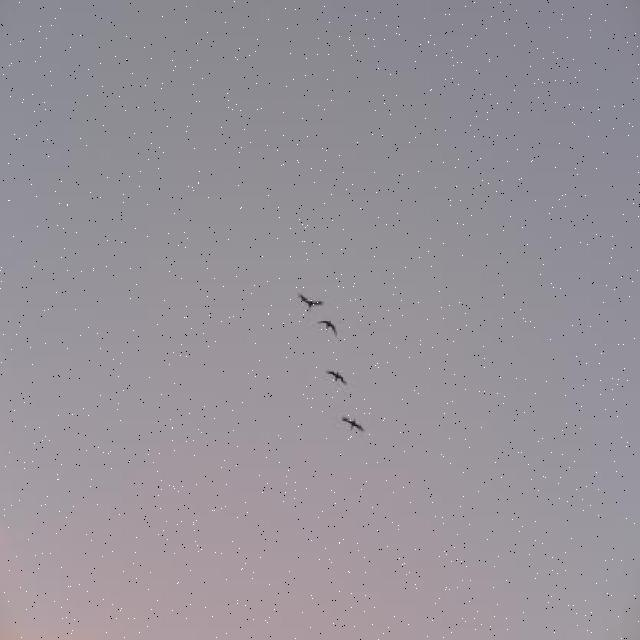bird: (298, 293, 324, 313), (318, 319, 338, 338), (326, 370, 348, 386), (342, 417, 364, 432)
